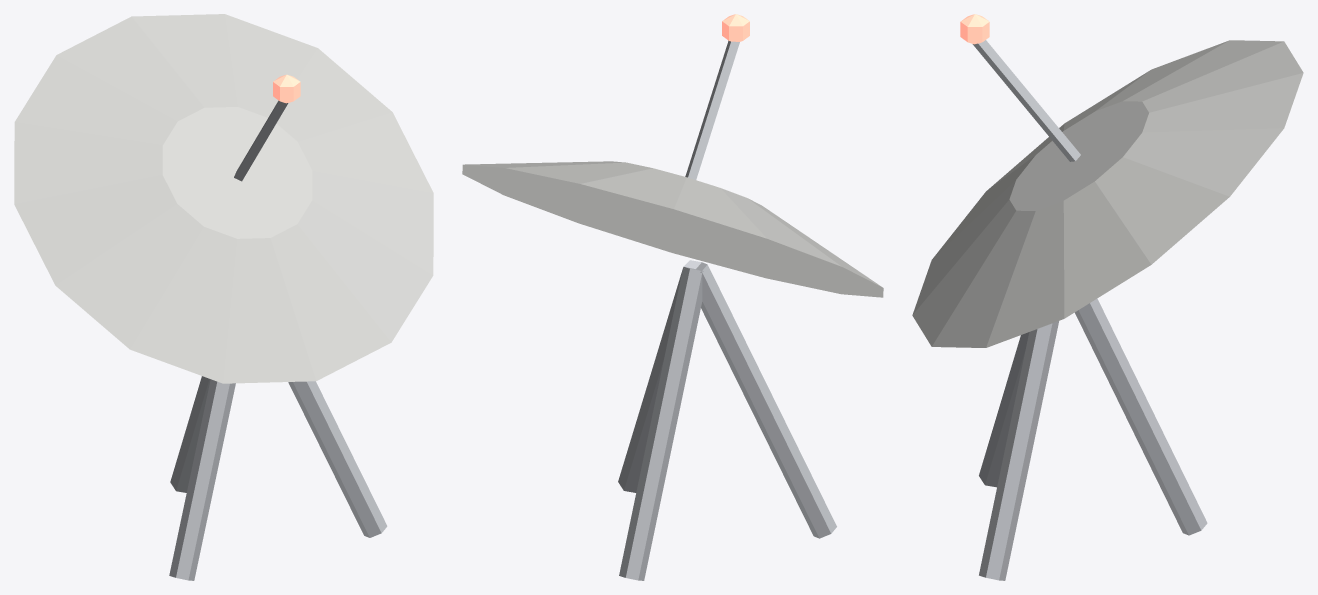
Rendered from arena_dish.glb.
3 renders of one model, left to right at view 1: azimuth 30°, elevation 25°; view 2: azimuth 150°, elevation 25°; view 3: azimuth 270°, elevation 25°, orthographic. The views are drawn at different scales.
Parts seen in each view (by area): view 1: arena_dish; view 2: arena_dish; view 3: arena_dish.
Part boxes in pixels (<box>): arena_dish: <box>14,14,433,580</box>; arena_dish: <box>462,14,883,580</box>; arena_dish: <box>912,14,1303,580</box>.
Bounding box in the file's own units: 2.73 × 3.38 × 2.31.
